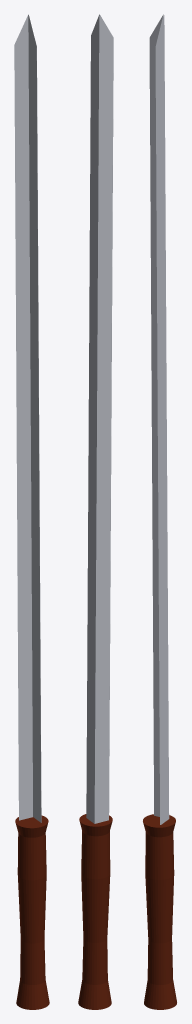
File: speto.fbx
The picture shows the model from 3 angles, left to right: view 1: azimuth 30°, elevation 25°; view 2: azimuth 210°, elevation 25°; view 3: azimuth 330°, elevation 25°; orthographic projection.
Parts seen in each view (by area): view 1: Cube.001; view 2: Cube.001; view 3: Cube.001.
Boxes of the visible parts, x1=… form: Cube.001: x1=14, y1=14, x2=49, y2=1009; Cube.001: x1=78, y1=14, x2=113, y2=1009; Cube.001: x1=143, y1=14, x2=176, y2=1009.
Bounding box in the file's own units: 7.06 × 222 × 6.81.
